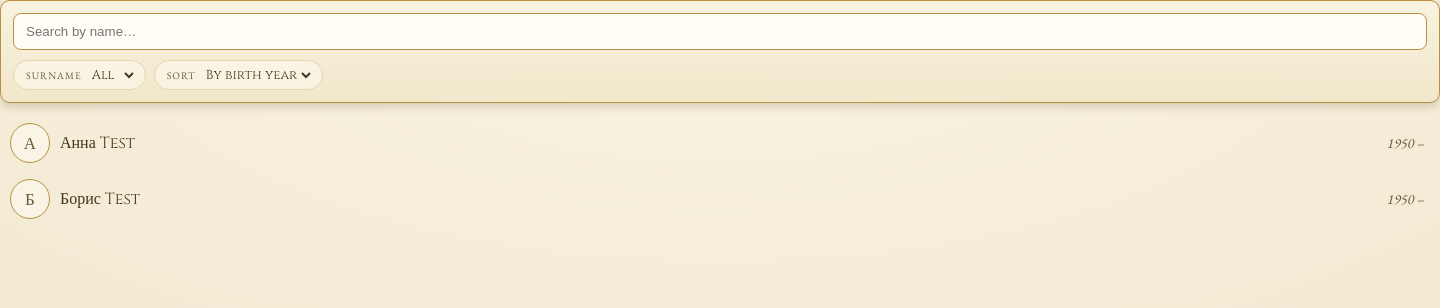
Test: MembersIndex › shows the clear button only once a filter is active and resets on click
Type "Анна" into the search field with test id "members-search" at (720, 32), box [13,13,1427,50]
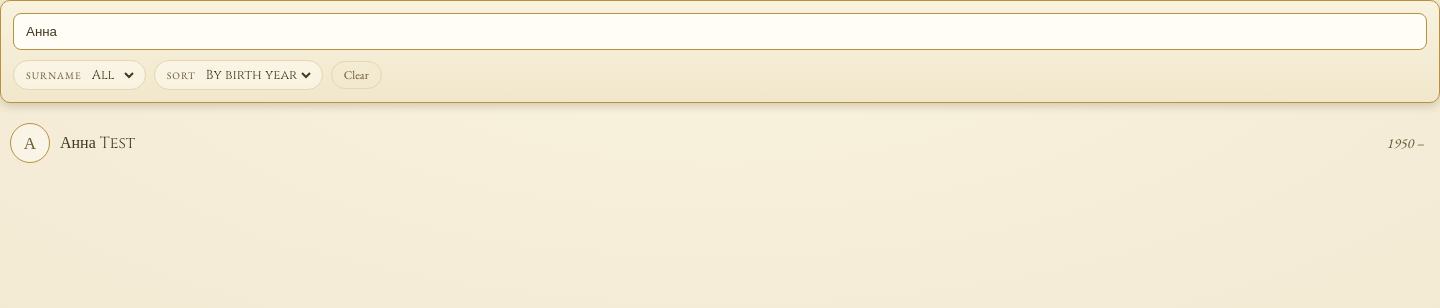
Expected: the number of options with test id "member-row" is 1, [0,115,1434,171]
Click the button with test id "filter-clear" at (356, 75), box [331,61,382,89]
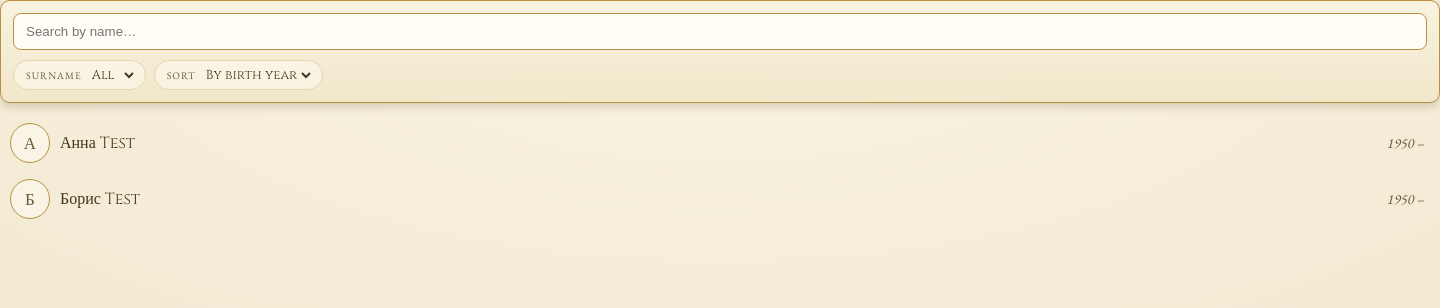
Expected: the number of options with test id "member-row" is 2, [0,115,1434,171]; [0,171,1434,227]
